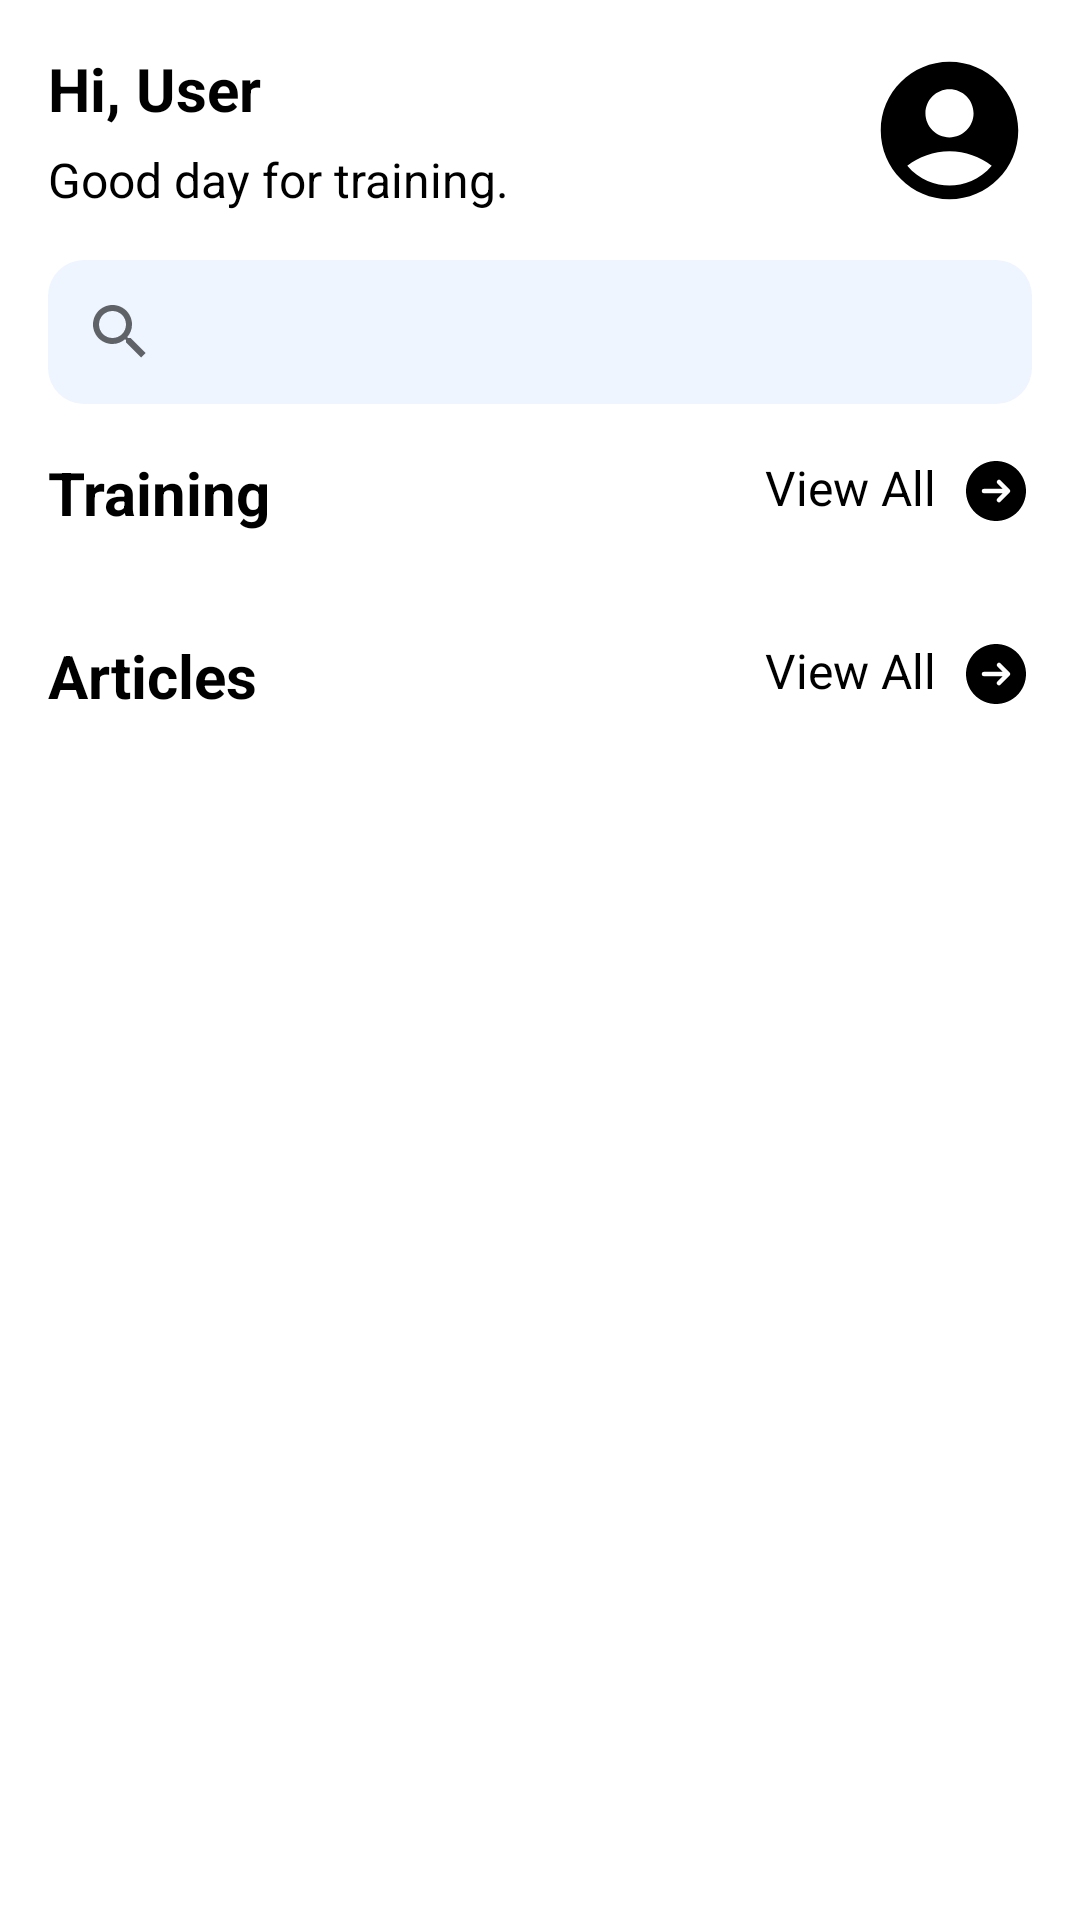

Where icons sit on this 1080 x 1920 app screen, as (x1, y1, x2, y2):
account circle: (880, 61, 1019, 200)
